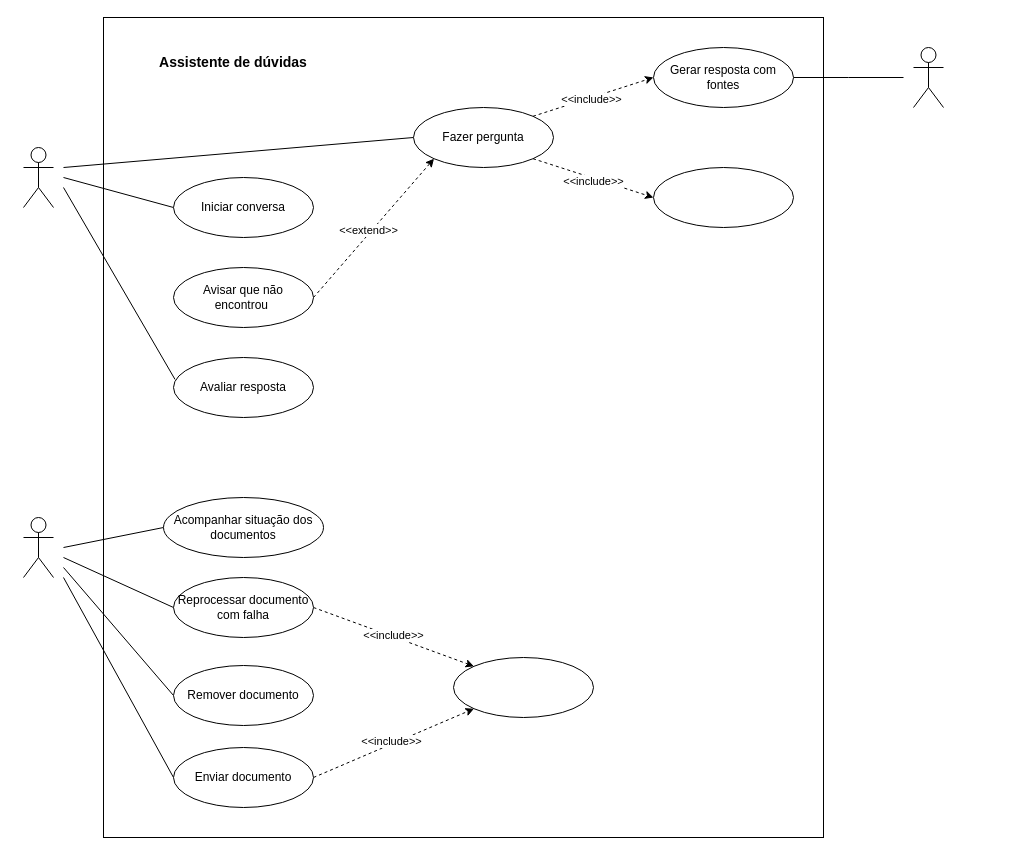
This 1029x855 diagram has some shape labels left out. Each missing label, with the centre of its shape:
Buscar trechos relevantes: the point at 723,197
Curador: the point at 38,547
Processar documento: the point at 523,687
Serviço de IA (sistema externo): the point at 928,77
Usuário: the point at 38,177
